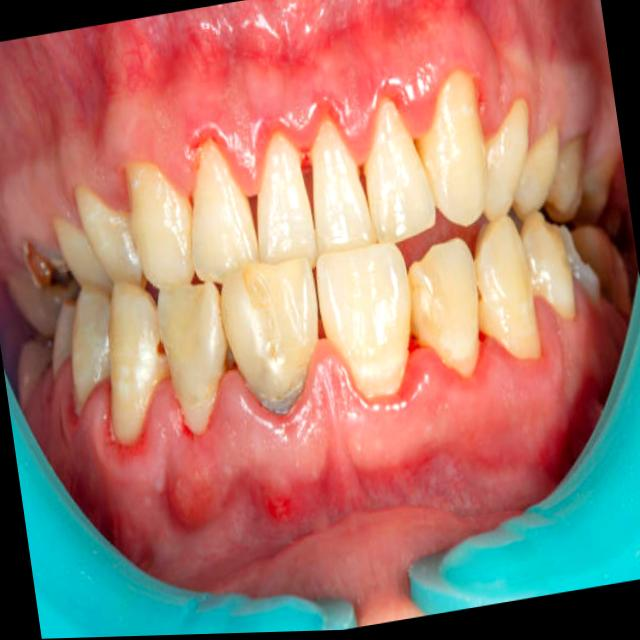gingivitis: (22, 293, 628, 601), (0, 0, 625, 277)
